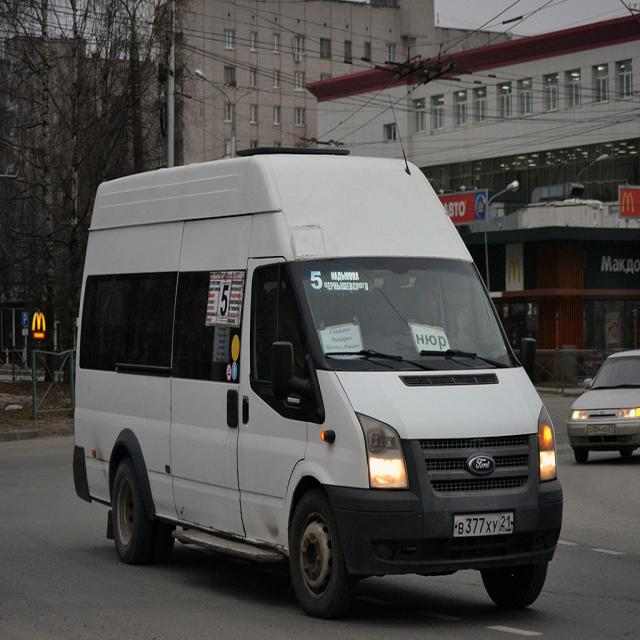number-of-bus: (219, 282, 233, 318), (310, 269, 324, 292)
